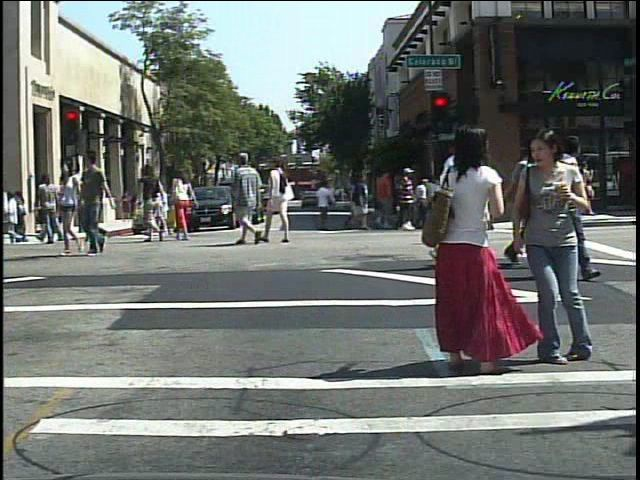person: (417, 123, 519, 378), (518, 121, 597, 368), (433, 129, 495, 275), (503, 132, 561, 274), (554, 129, 605, 281), (465, 139, 513, 247), (80, 147, 117, 259), (51, 160, 90, 259), (227, 148, 265, 247), (265, 151, 294, 247), (170, 166, 201, 241), (139, 164, 167, 244), (75, 169, 101, 246), (37, 171, 62, 248), (392, 166, 419, 235), (484, 164, 510, 233)
